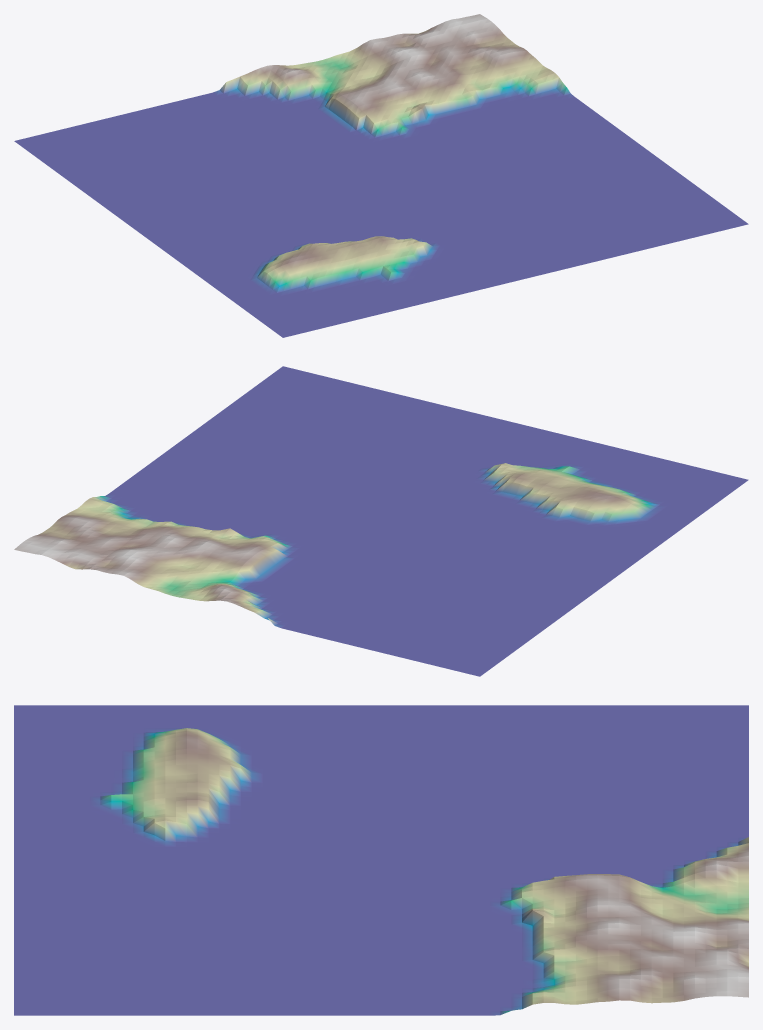
Rendered from 001985_terrain_only.glb.
3 views of the same model, one above another, from view 1: azimuth 30°, elevation 25°; view 2: azimuth 150°, elevation 25°; view 3: azimuth 270°, elevation 25° (orthographic). The views are drawn at different scales.
Visible parts, largest first — view 1: terrain; view 2: terrain; view 3: terrain.
Boxes of the visible parts, x1,y1,x2,y2 form: terrain: [14, 14, 748, 337]; terrain: [14, 366, 748, 676]; terrain: [14, 705, 748, 1015].
Size of the model in its own units: 0.0183 by 0.00057 by 0.0183.
